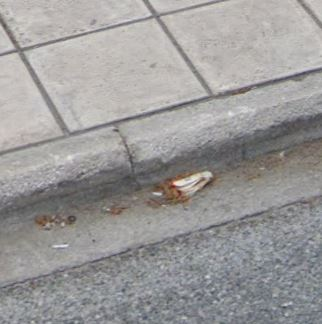trash: (147, 164, 222, 209)
